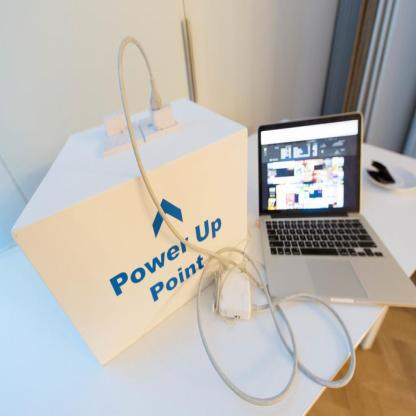board: (257, 109, 416, 310)
